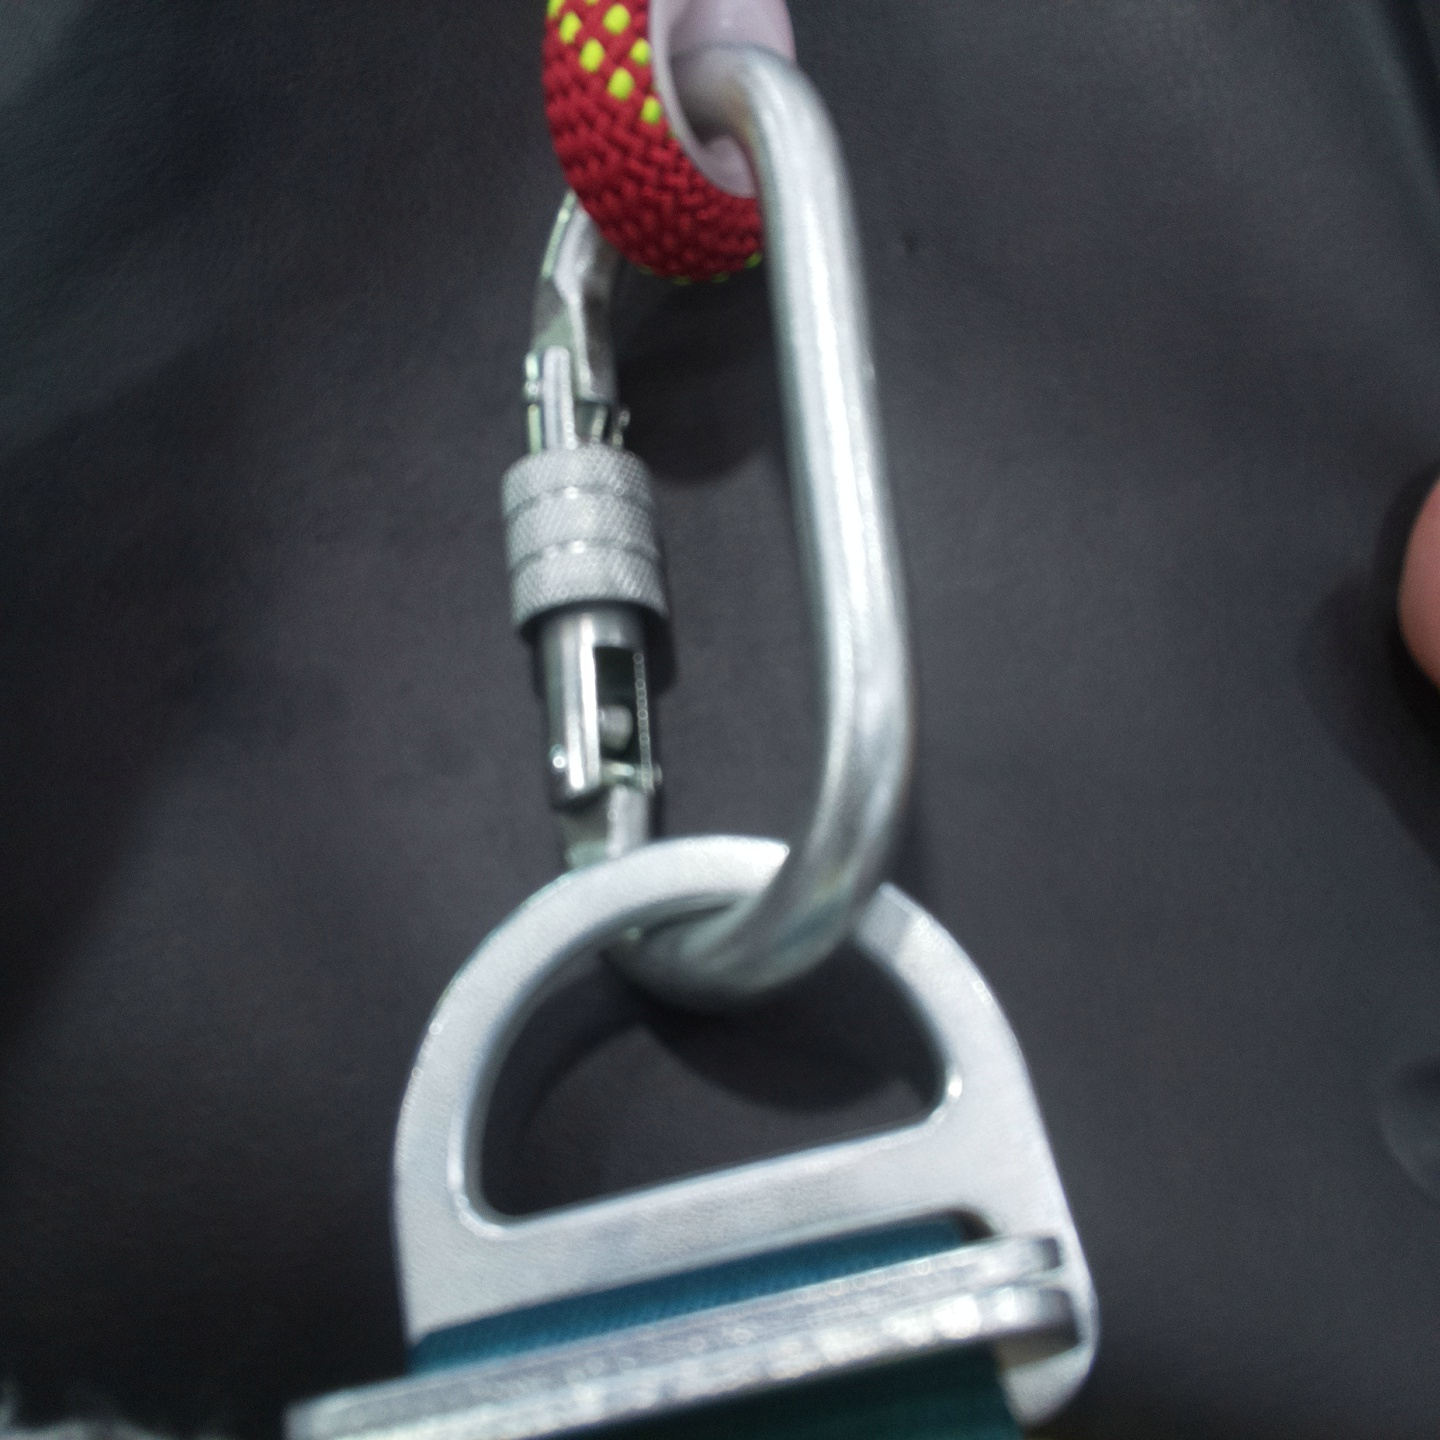SUCCESS: (384, 367, 1104, 1358)
